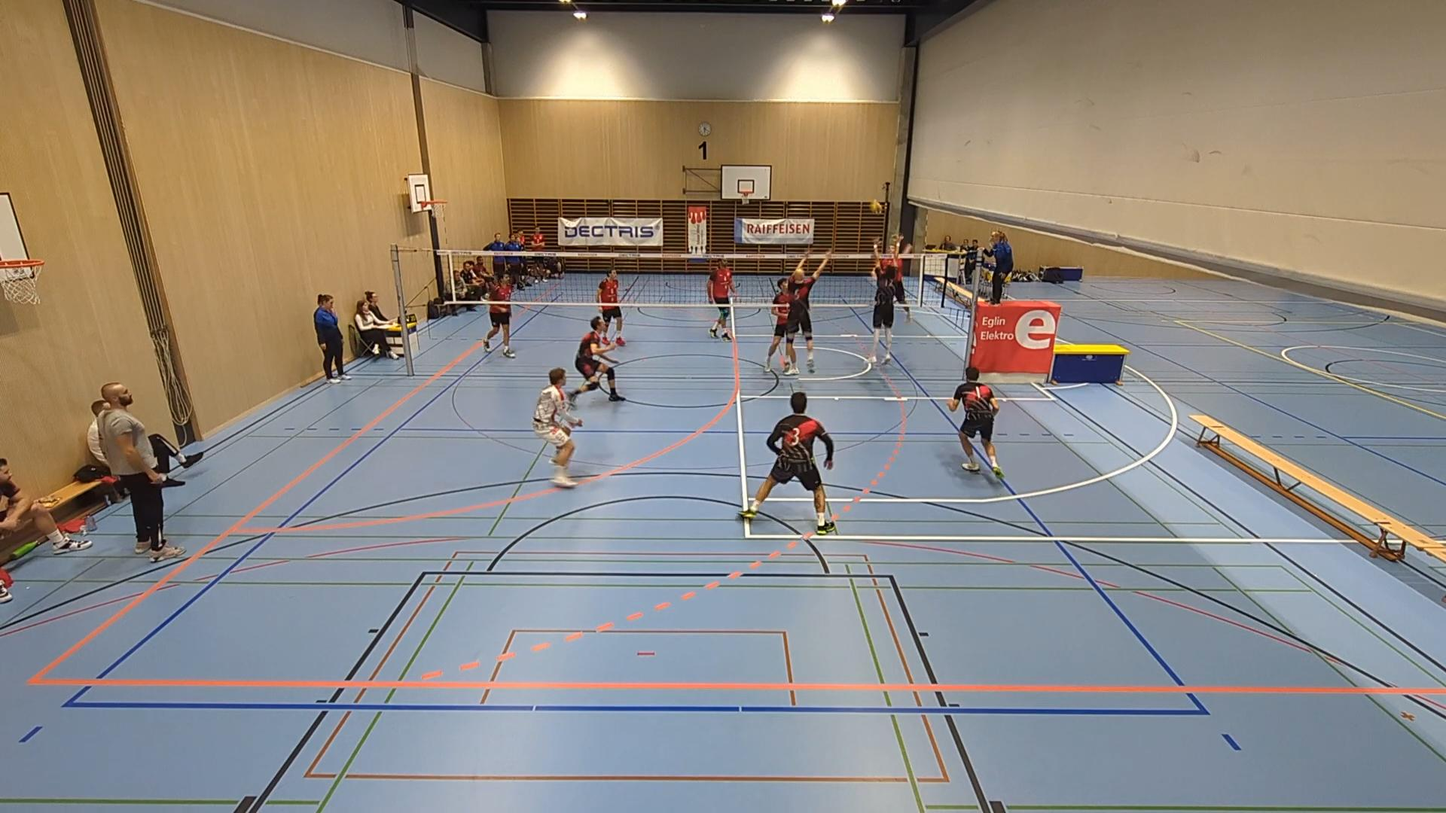Attack: (874, 238, 918, 321)
Block: (780, 242, 843, 377), (867, 237, 911, 364)
Player: (740, 391, 836, 534), (947, 367, 1002, 478), (532, 367, 582, 487), (569, 317, 625, 401), (484, 276, 515, 358), (764, 277, 790, 368), (596, 269, 625, 346), (707, 261, 734, 339)
ball: (872, 200, 882, 211)
